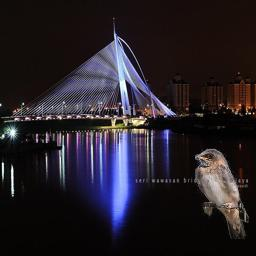Swallow: (195, 149, 249, 240)
